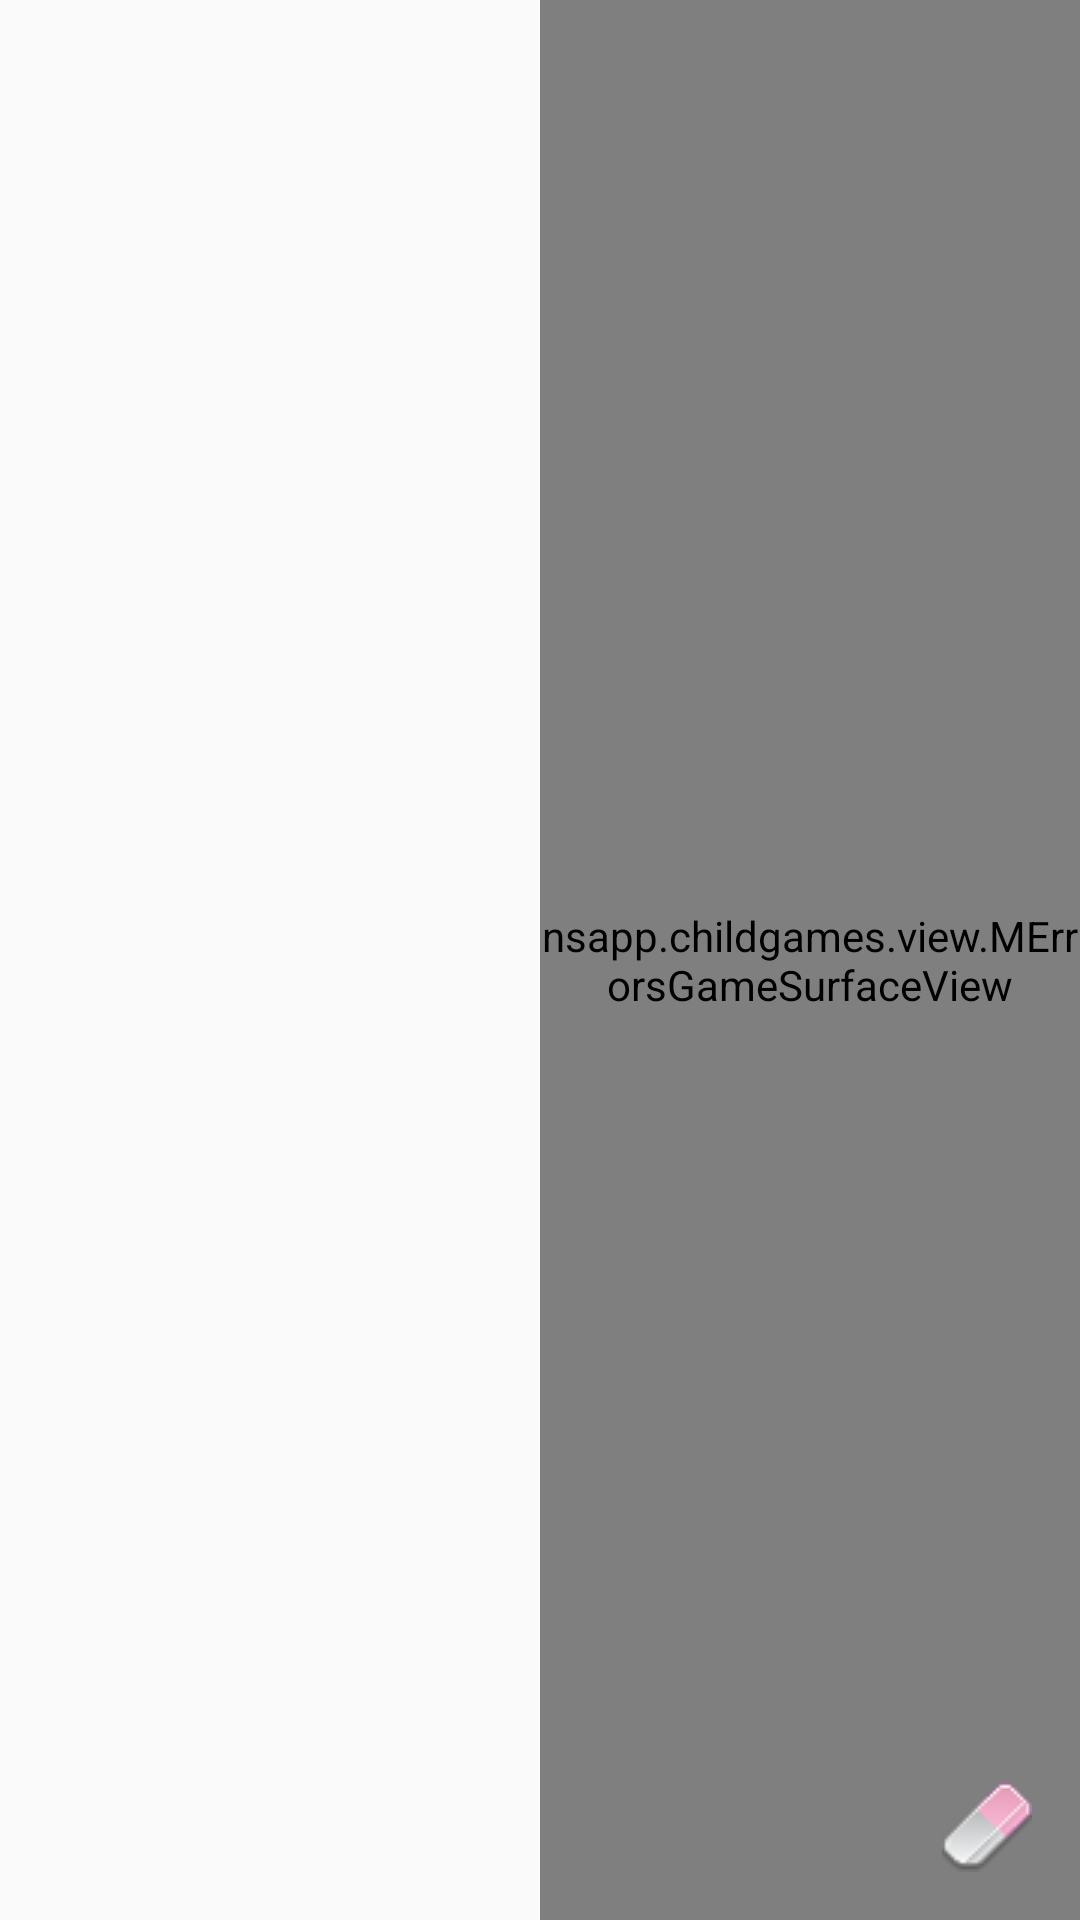

Icon click points for this 1080x1920 phone screenshot, format (x=x, y=y):
gum imageview: (x=988, y=1825)
